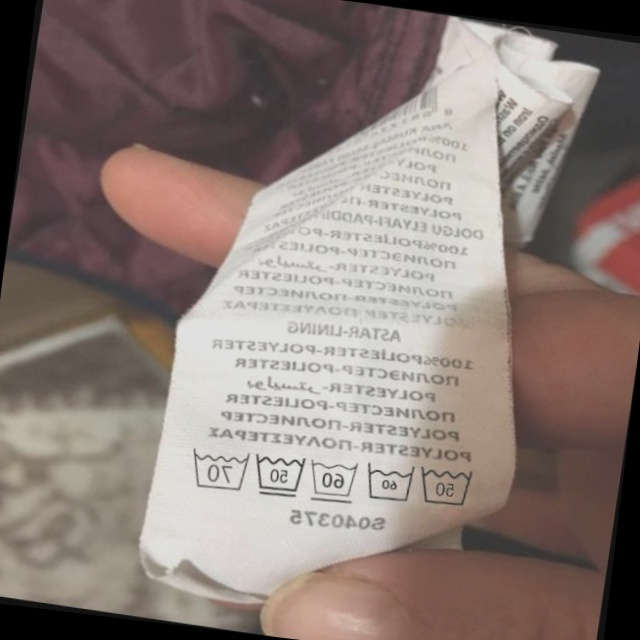50C: (412, 456, 481, 514), (247, 447, 310, 504)
60C: (302, 452, 361, 507), (358, 456, 418, 509)
70C: (181, 442, 251, 496)
